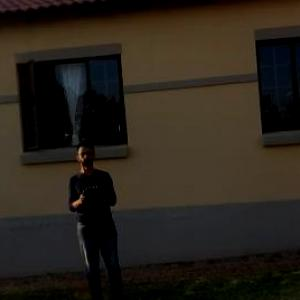follow: (66, 136, 132, 299)
